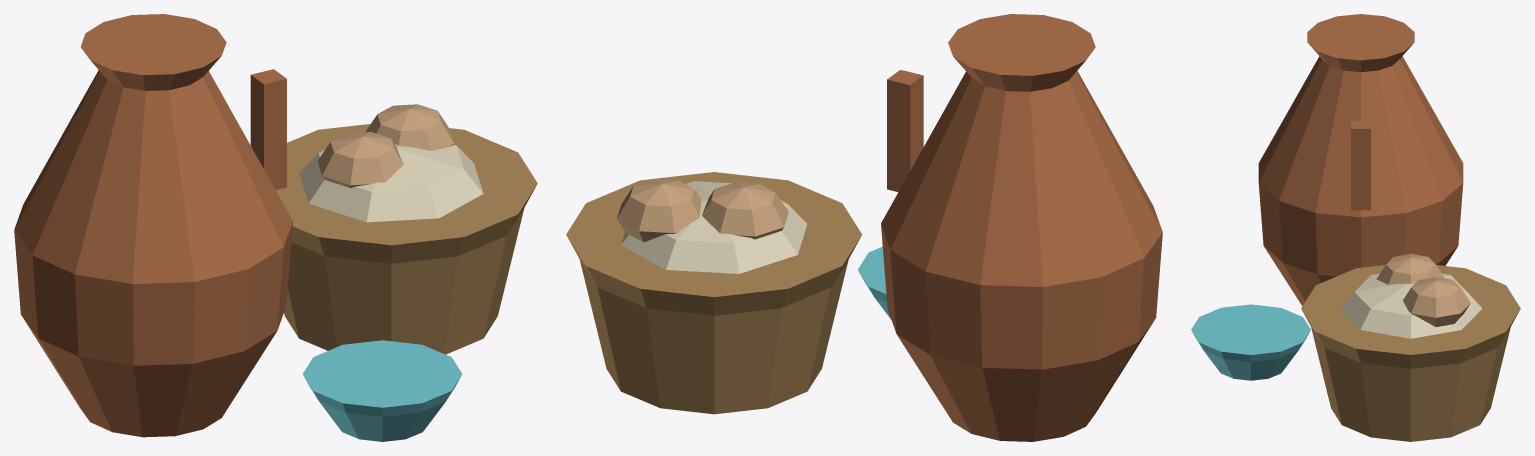
The model's file is terraza_cantaro.glb.
The picture shows the model from 3 angles, left to right: view 1: azimuth 30°, elevation 25°; view 2: azimuth 150°, elevation 25°; view 3: azimuth 270°, elevation 25°; orthographic projection. The views are drawn at different scales.
Visible parts, largest first — view 1: terraza_cantaro; view 2: terraza_cantaro; view 3: terraza_cantaro.
Boxes of the visible parts, x1,y1,x2,y2 form: terraza_cantaro: [14, 14, 537, 441]; terraza_cantaro: [566, 14, 1162, 441]; terraza_cantaro: [1191, 14, 1520, 441].
Bounding box in the file's own units: 0.9 × 0.6 × 0.66.
